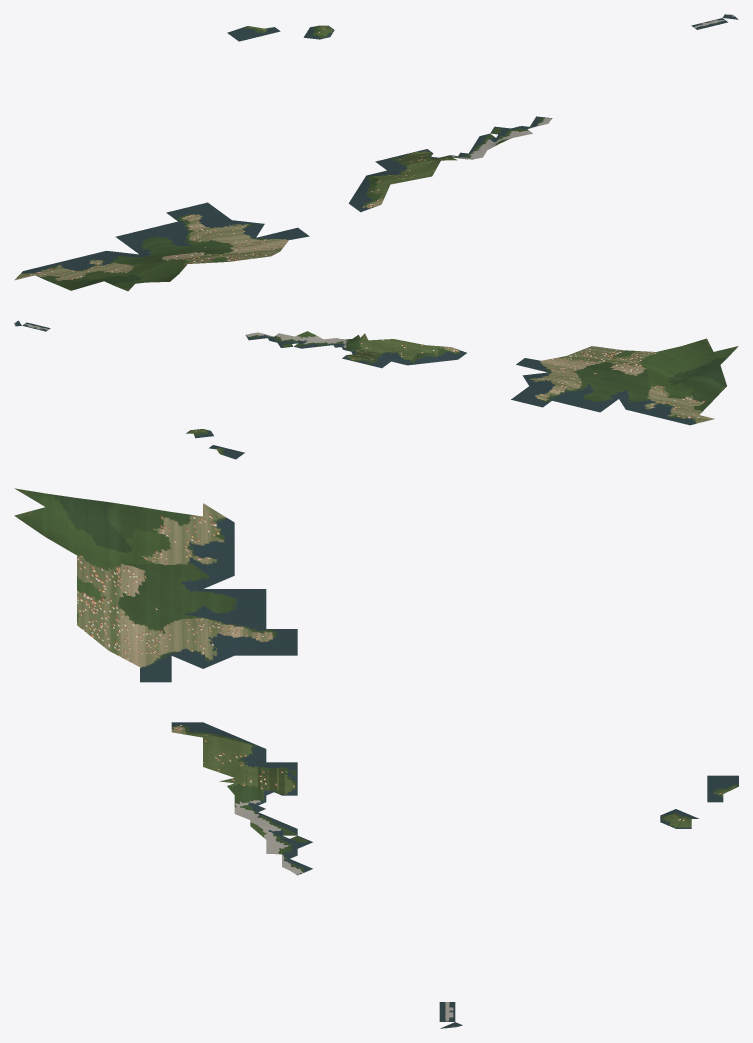
The model's file is SM_Fondale_Colline_SE_LOD2.fbx.
The picture shows the model from 3 angles, top to bottom: view 1: azimuth 30°, elevation 25°; view 2: azimuth 150°, elevation 25°; view 3: azimuth 270°, elevation 25°; orthographic projection. The views are drawn at different scales.
Visible parts, largest first — view 1: SM_Fondale_Colline_SE_LOD2; view 2: SM_Fondale_Colline_SE_LOD2; view 3: SM_Fondale_Colline_SE_LOD2.
Boxes of the visible parts, box(x1,y1,x2,y2) form: SM_Fondale_Colline_SE_LOD2: box(14, 14, 738, 291); SM_Fondale_Colline_SE_LOD2: box(14, 320, 738, 459); SM_Fondale_Colline_SE_LOD2: box(14, 488, 738, 1028).
Size of the model in its own units: 936000 by 552000 by 39933.
1 material, 1 textured.
